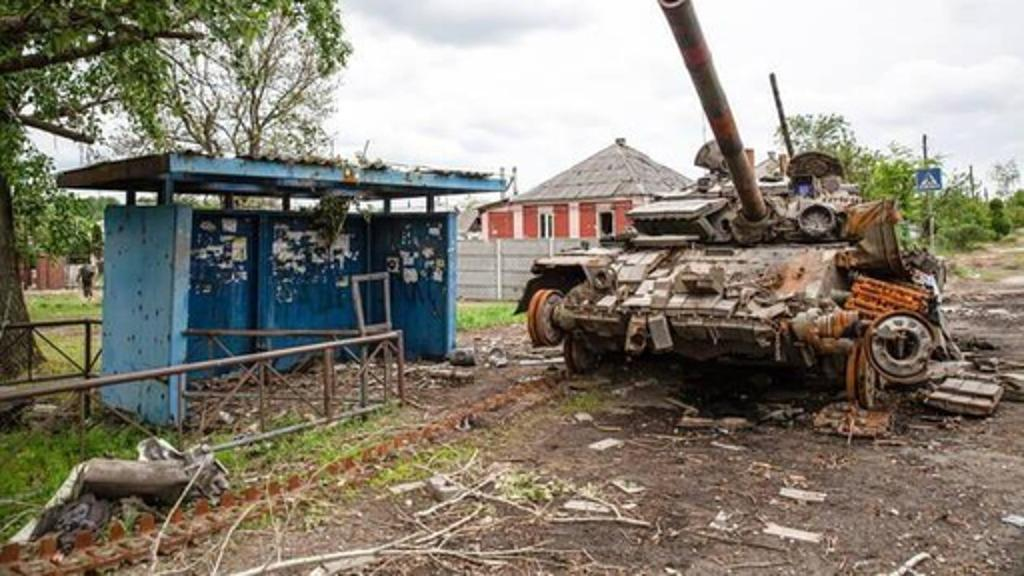TANK: (514, 4, 952, 436)
